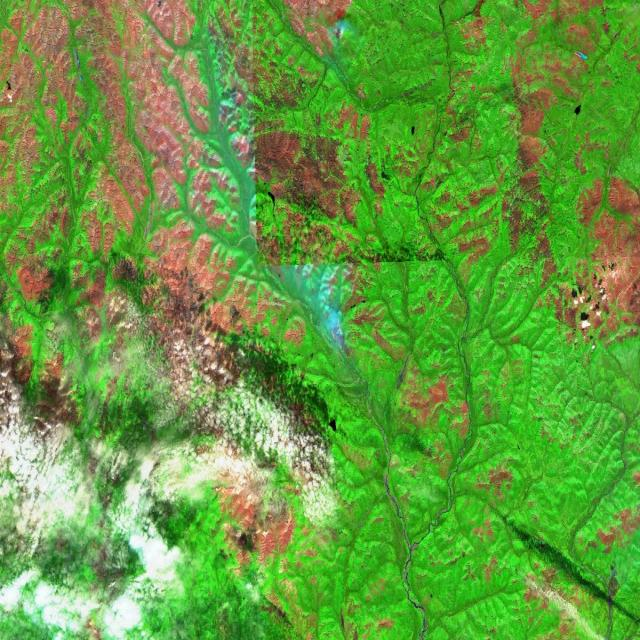fire: (328, 316, 357, 364)
